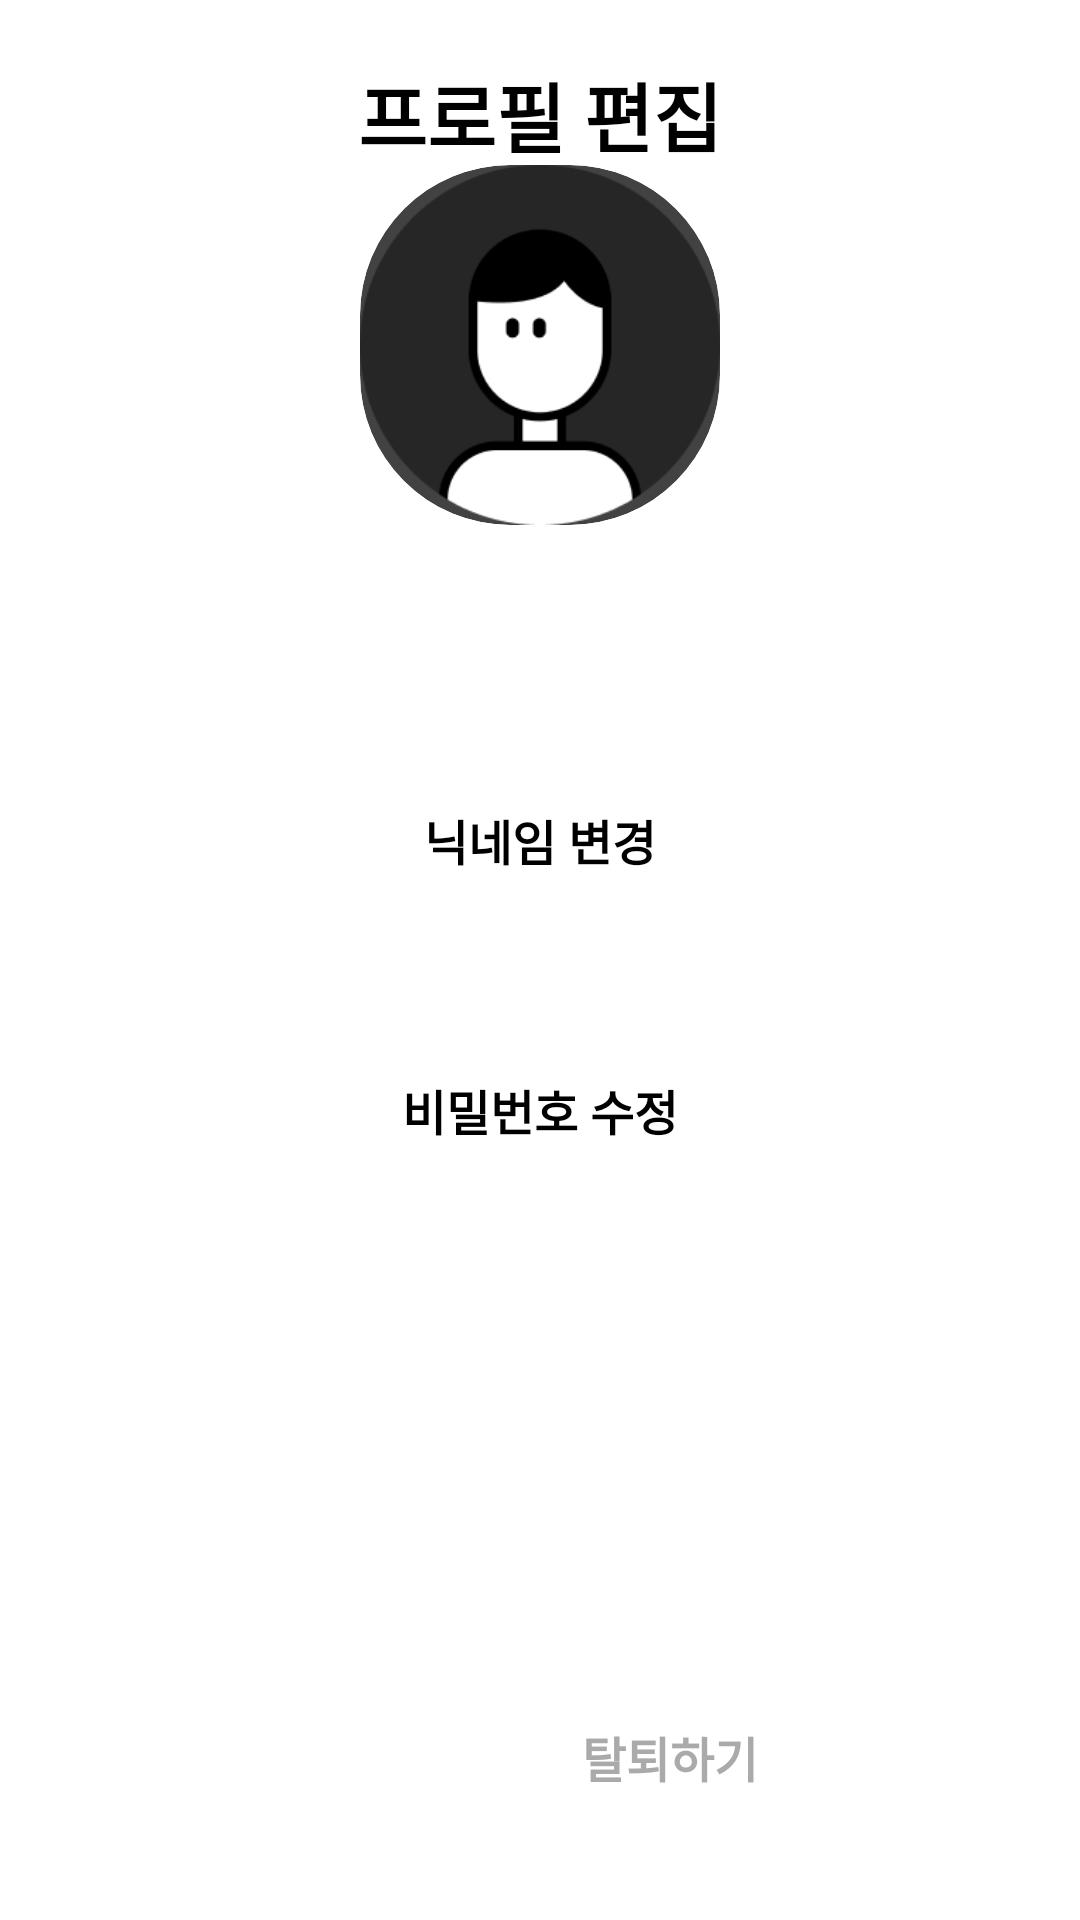

Screen size 1080px x 1920px. Icon name, then its center in pixels as (x=x, y=y):
user example: (x=540, y=345)
